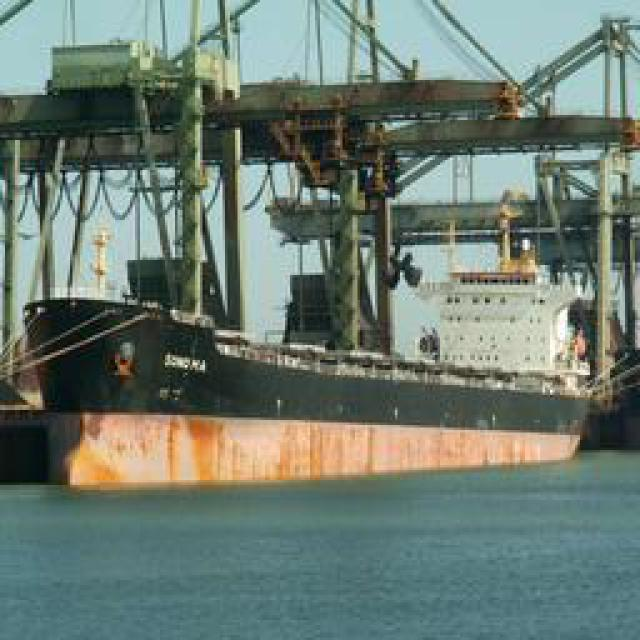Ship: (1, 25, 629, 478)
